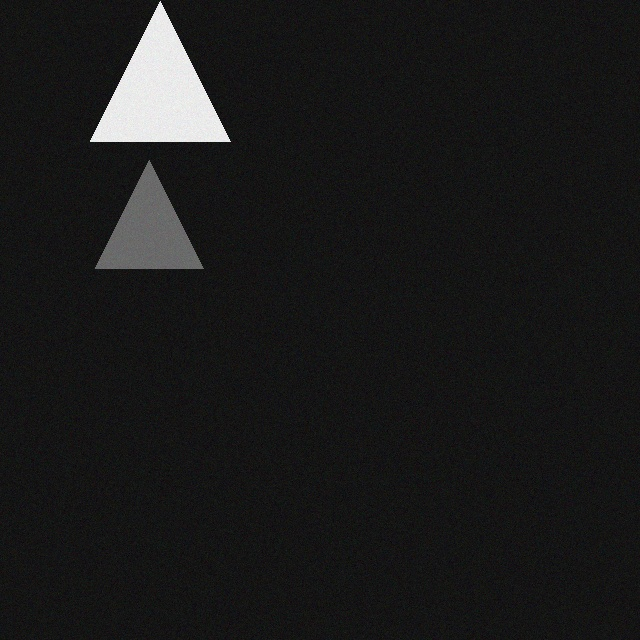triangle: (90, 16, 230, 156), (95, 175, 203, 283)
